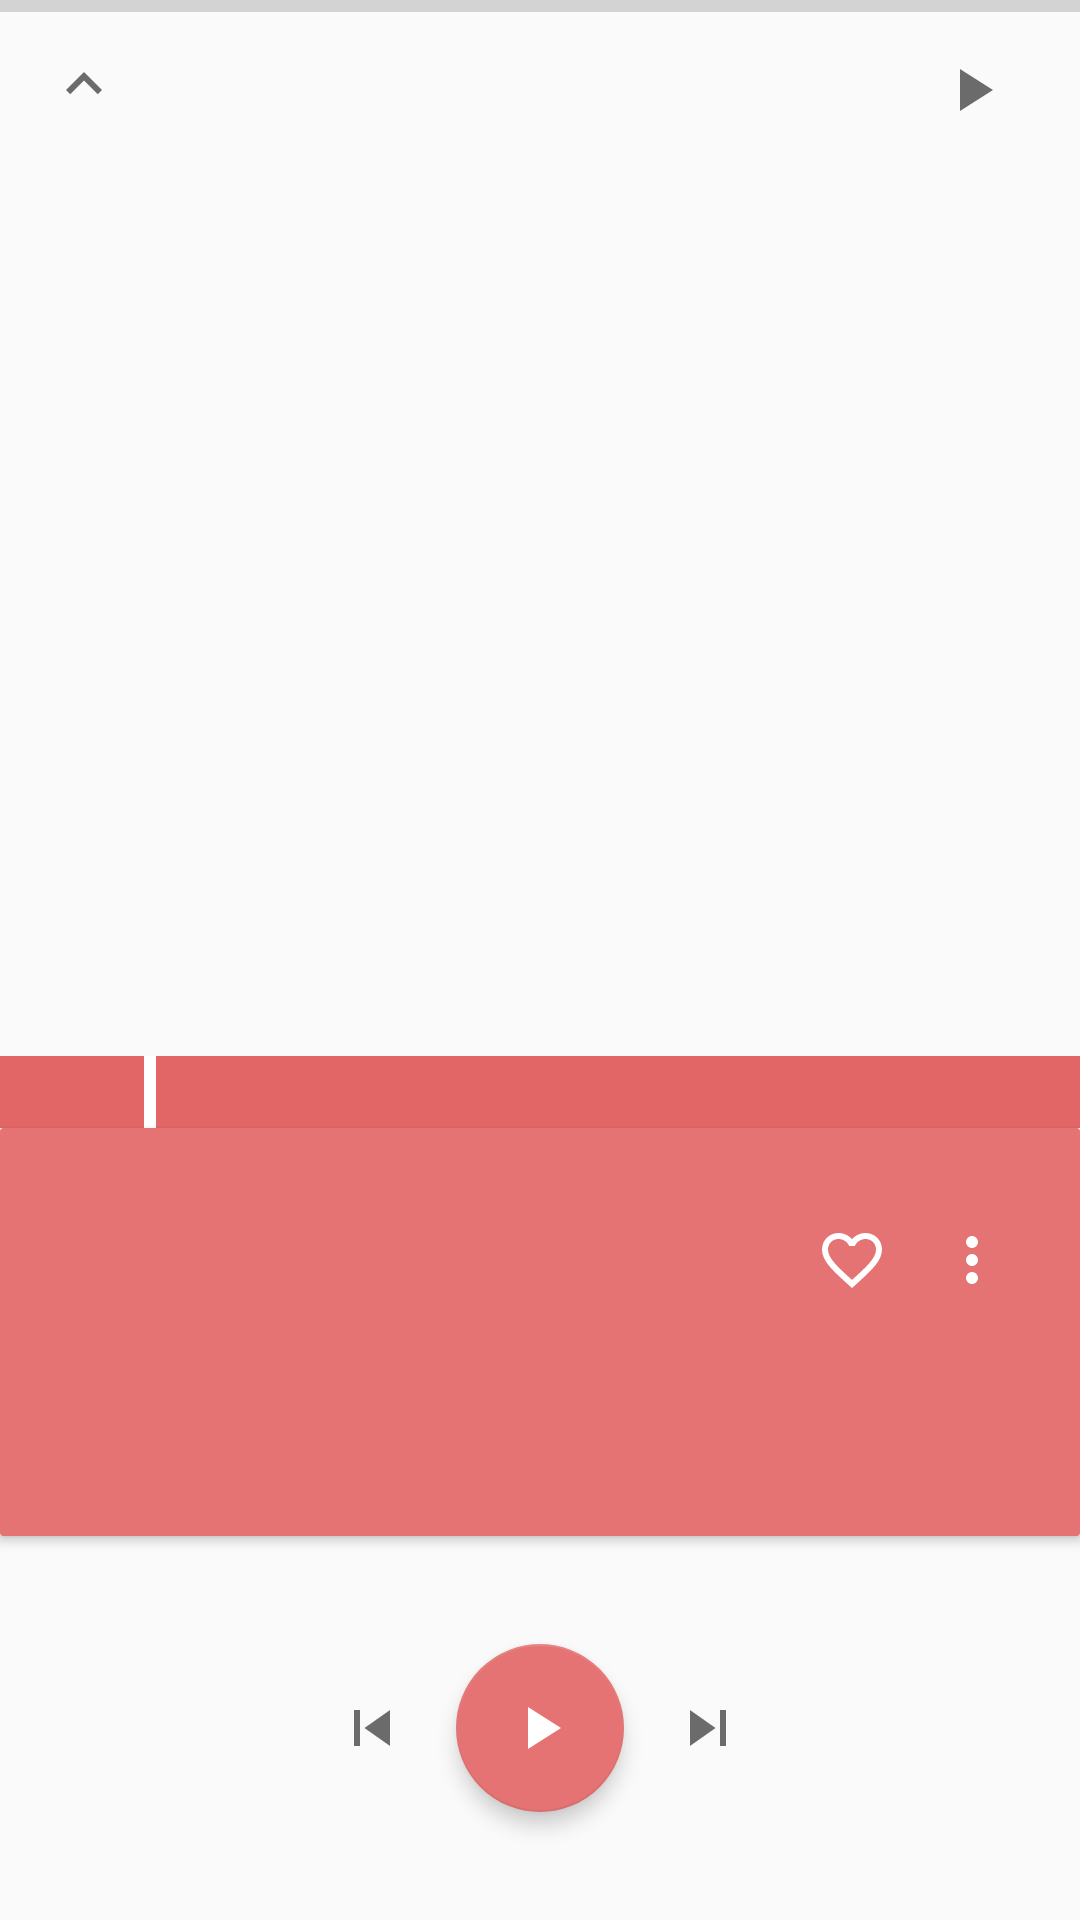

Locate icon controls on the screen. Image size 1080 x 1920, boxes as (x1=x1, y1=y1, x2=x2, y2=y2).
arrow up: (x1=66, y1=72, x2=102, y2=94)
favorite border: (x1=822, y1=1233, x2=882, y2=1288)
next song: (x1=690, y1=1710, x2=726, y2=1746)
overflow: (x1=966, y1=1236, x2=978, y2=1284)
play: (x1=960, y1=69, x2=993, y2=111), (x1=456, y1=1644, x2=624, y2=1812)
previous song: (x1=354, y1=1710, x2=390, y2=1746)
